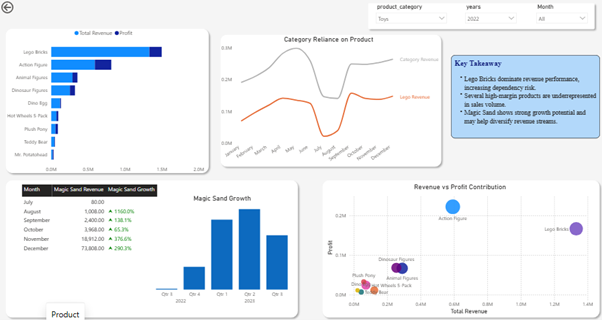

This screenshot's page, from the dashboard's own definition file:
{"tool":"powerbi","page":{"name":"Product","canvas":[1500,800],"ordinal":1},"visuals":[{"type":"shape","box":[907.2,0,580.8,83.2],"z":0},{"type":"shape","box":[793.3,440,706.7,360],"z":1000},{"type":"shape","box":[6.2,440,743.8,360],"z":2000},{"type":"shape","box":[6.2,62.5,522.5,377.5],"z":3000},{"type":"shape","box":[540,78.3,566.7,346.7],"z":4000},{"type":"barChart","title":"Revenue and Profit by Products","fields":{"Y":["toy_store sales_clean.Total Revenue","toy_store sales_clean.Profit"],"Category":["toy_store products_clean.product_name"]},"box":[6.2,62.5,507.5,377.5],"z":5000},{"type":"slicer","fields":{"Values":["toy_store products_clean.product_category"]},"box":[925.3,4.9,196.4,73.1],"z":6000},{"type":"scatterChart","title":"Revenue vs Profit Contribution","fields":{"X":["toy_store sales_clean.Total Revenue"],"Category":["toy_store products_clean.product_name"],"Y":["toy_store sales_clean.Profit"],"Size":["toy_store sales_clean.Total Orders"]},"box":[808.3,455,671.7,333.3],"z":7000},{"type":"lineChart","title":"Category Reliance on Product","fields":{"Category":["toy_store calendar_clean.dates.Variation.Date Hierarchy.Month"],"Y":["toy_store sales_clean.Total Revenue","toy_store products_clean.Lego Revenue","toy_store products_clean.Magic Sand Revenue1","toy_store products_clean.Magic Sand Revenue","toy_store products_clean.Rubik Revenue","toy_store products_clean.Colorbuds Revenue"]},"box":[540,88.8,556.2,336.2],"z":8000},{"type":"actionButton","box":[0,0,100,40],"z":9000},{"type":"slicer","fields":{"Values":["toy_store calendar_clean.dates.Variation.Date Hierarchy.Month"]},"box":[1323.1,4.9,147.7,73.1],"z":10000},{"type":"columnChart","title":"Magic Sand Growth","fields":{"Y":["toy_store products_clean.Magic Sand Revenue"],"Category":["toy_store calendar_clean.dates.Variation.Date Hierarchy.Year","toy_store calendar_clean.dates.Variation.Date Hierarchy.Quarter"]},"box":[356.2,483.8,393.8,288.8],"z":11000},{"type":"tableEx","fields":{"Values":["toy_store calendar_clean.dates.Variation.Date Hierarchy.Month","toy_store products_clean.Magic Sand Revenue","toy_store products_clean.Magic Sand Growth"]},"box":[50,455,358.8,317.5],"z":12000},{"type":"textbox","box":[1121.7,138.3,370,206.7],"z":13000},{"type":"slicer","fields":{"Values":["toy_store calendar_clean.years"]},"box":[1146.1,4.9,147.7,69.8],"z":14000}]}

Visuals, with their boxes in screenshot pixels (x1, y1, x2, y2), scaled from the page's 1500x800 canvas onto the 602x320 screenshot:
shape: (364,0,597,33)
shape: (318,176,601,319)
shape: (2,176,301,319)
shape: (2,25,212,176)
shape: (217,31,444,170)
"Revenue and Profit by Products" barChart: (2,25,206,176)
slicer - toy_store products_clean.product_category: (371,2,450,31)
"Revenue vs Profit Contribution" scatterChart: (324,182,594,315)
"Category Reliance on Product" lineChart: (217,36,440,170)
actionButton: (0,0,40,16)
slicer - toy_store calendar_clean.dates.Variation.Date Hierarchy.Month: (531,2,590,31)
"Magic Sand Growth" columnChart: (143,194,301,309)
tableEx - toy_store calendar_clean.dates.Variation.Date Hierarchy.Month x toy_store products_clean.Magic Sand Revenue: (20,182,164,309)
textbox: (450,55,599,138)
slicer - toy_store calendar_clean.years: (460,2,519,30)
